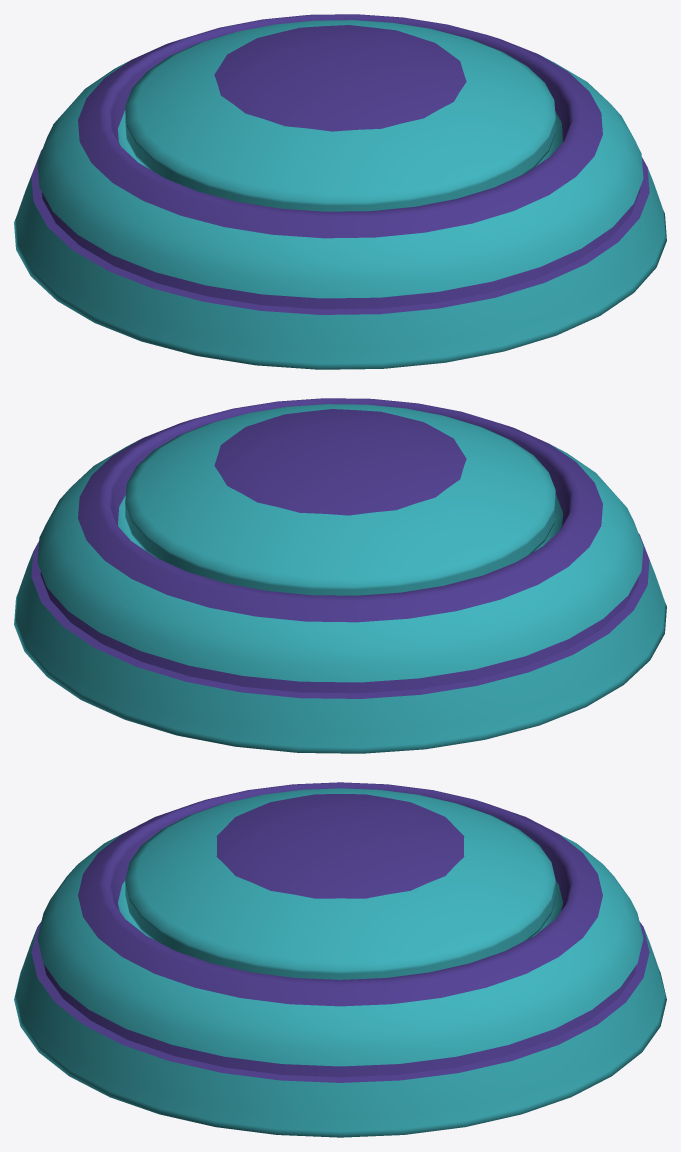
Rendered from Jumppad.FBX.
3 views of the same model, one above another, from view 1: azimuth 30°, elevation 25°; view 2: azimuth 150°, elevation 25°; view 3: azimuth 270°, elevation 25° (orthographic).
Parts seen in each view (by area): view 1: Jumppad; view 2: Jumppad; view 3: Jumppad.
Boxes of the visible parts, x1=… form: Jumppad: x1=14, y1=14, x2=666, y2=369; Jumppad: x1=14, y1=398, x2=666, y2=753; Jumppad: x1=14, y1=782, x2=666, y2=1137.
Bounding box in the file's own units: 82.22 × 23.54 × 82.22.
